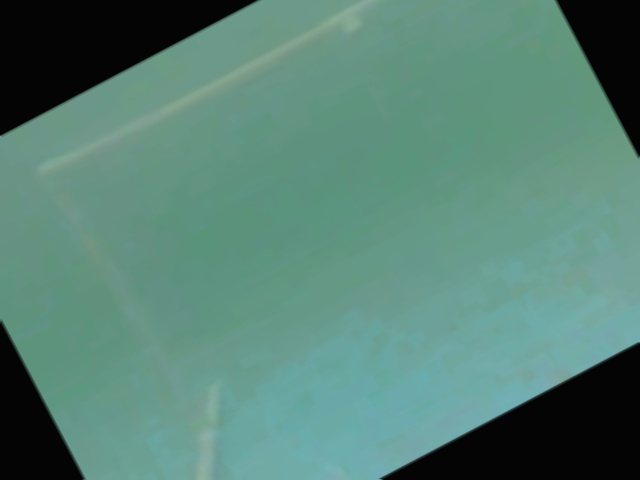gate: (13, 15, 623, 457)
